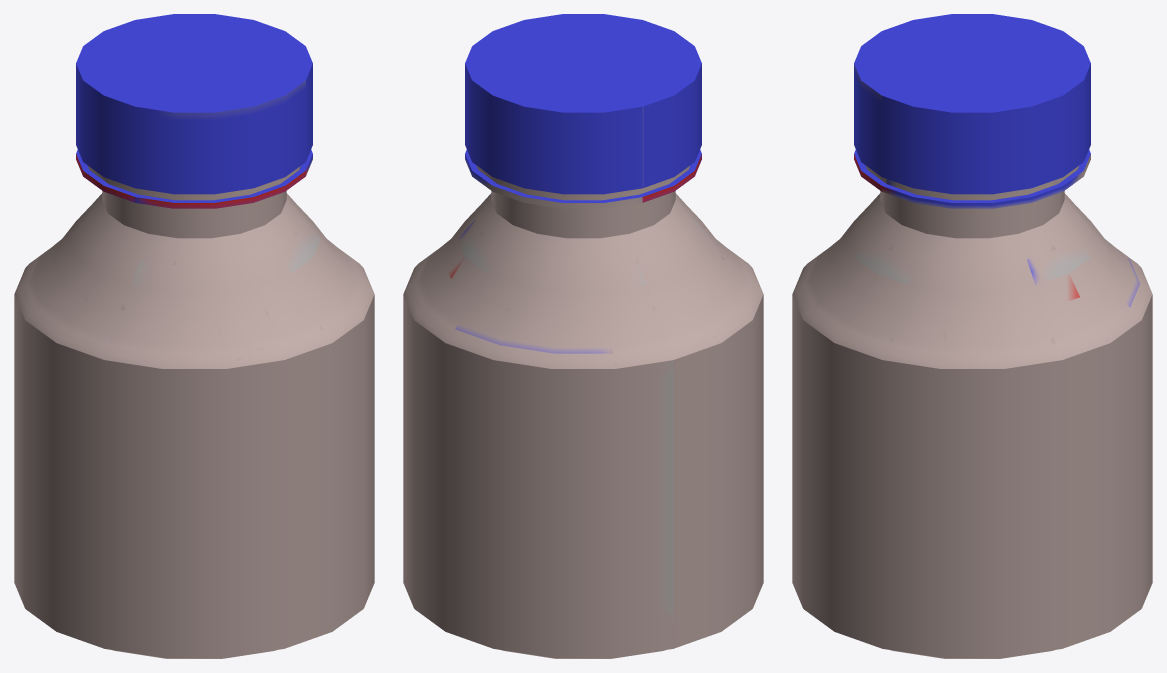
The model's file is Lab_Tools_Small_Bottle.fbx.
3 renders of one model, left to right at view 1: azimuth 30°, elevation 25°; view 2: azimuth 150°, elevation 25°; view 3: azimuth 270°, elevation 25°, orthographic.
Visible parts, largest first — view 1: Small_Bottle; view 2: Small_Bottle; view 3: Small_Bottle.
Part boxes in pixels (x1,y1,x2,y2): Small_Bottle: [14, 14, 374, 658]; Small_Bottle: [403, 14, 763, 658]; Small_Bottle: [792, 14, 1152, 658].
Size of the model in its own units: 0.042 by 0.07 by 0.0426.
